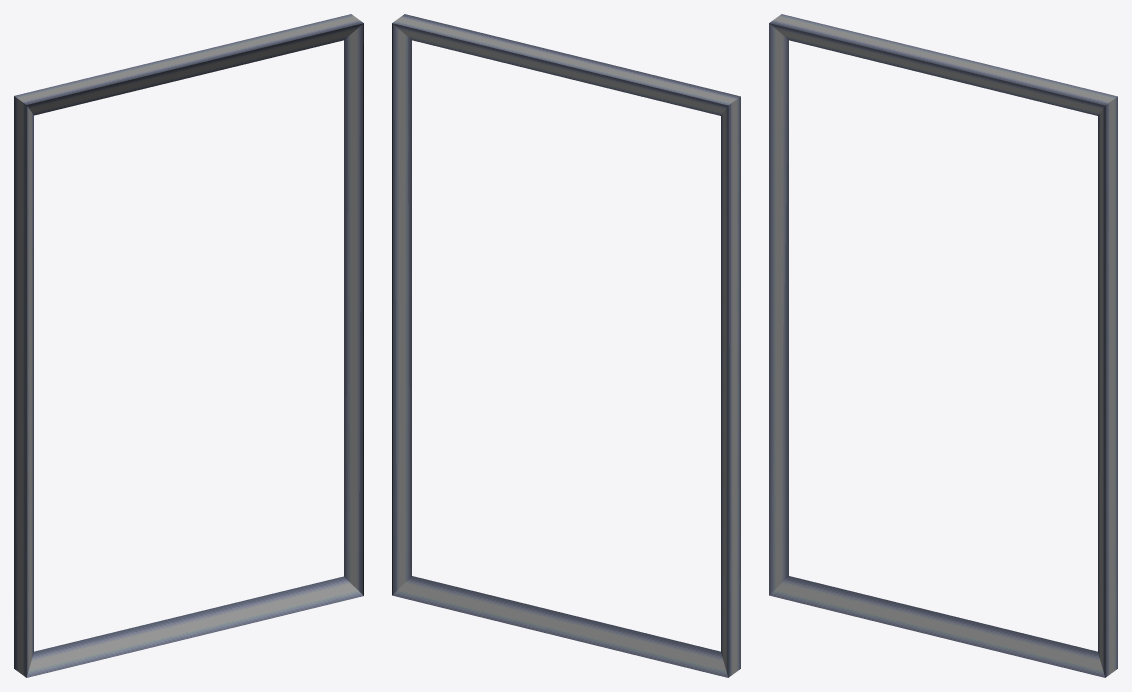
Rendered from primary_126.glb.
The picture shows the model from 3 angles, left to right: view 1: azimuth 30°, elevation 25°; view 2: azimuth 150°, elevation 25°; view 3: azimuth 330°, elevation 25°; orthographic projection.
Visible parts, largest first — view 1: Object; view 2: Object; view 3: Object.
Part boxes in pixels (left/top/right/bottom): Object: left=14, top=14, right=363, bottom=677; Object: left=392, top=14, right=740, bottom=677; Object: left=769, top=14, right=1117, bottom=677.
Bounding box in the file's own units: 1.66 × 2.69 × 0.1104.
1 material, 1 textured.
